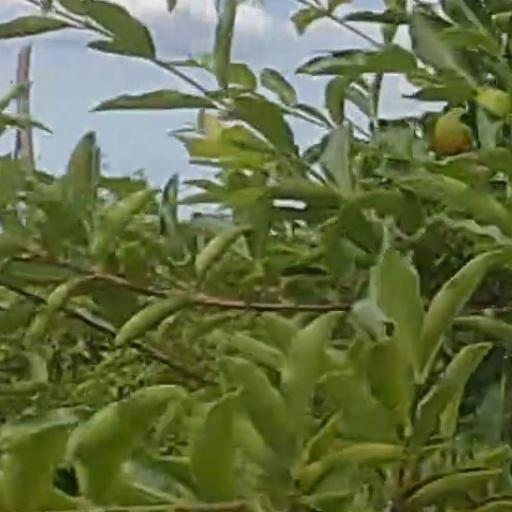acerola_verde: (436, 108, 466, 155)
